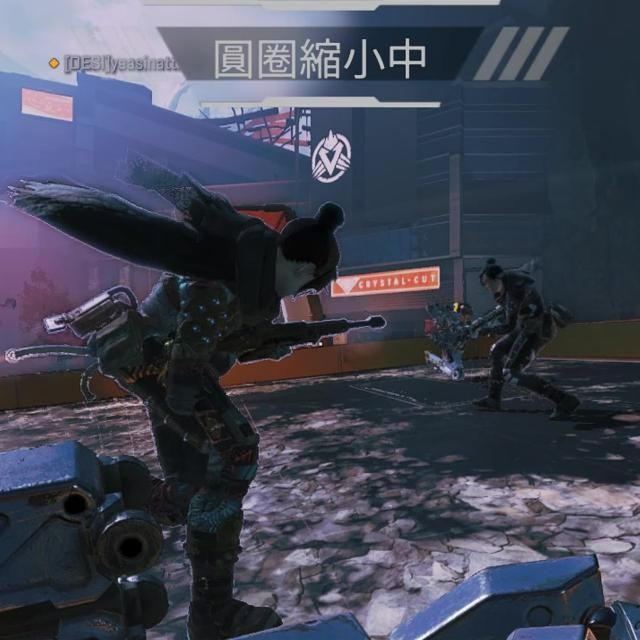avatar: (96, 201, 348, 640), (471, 255, 560, 414)
